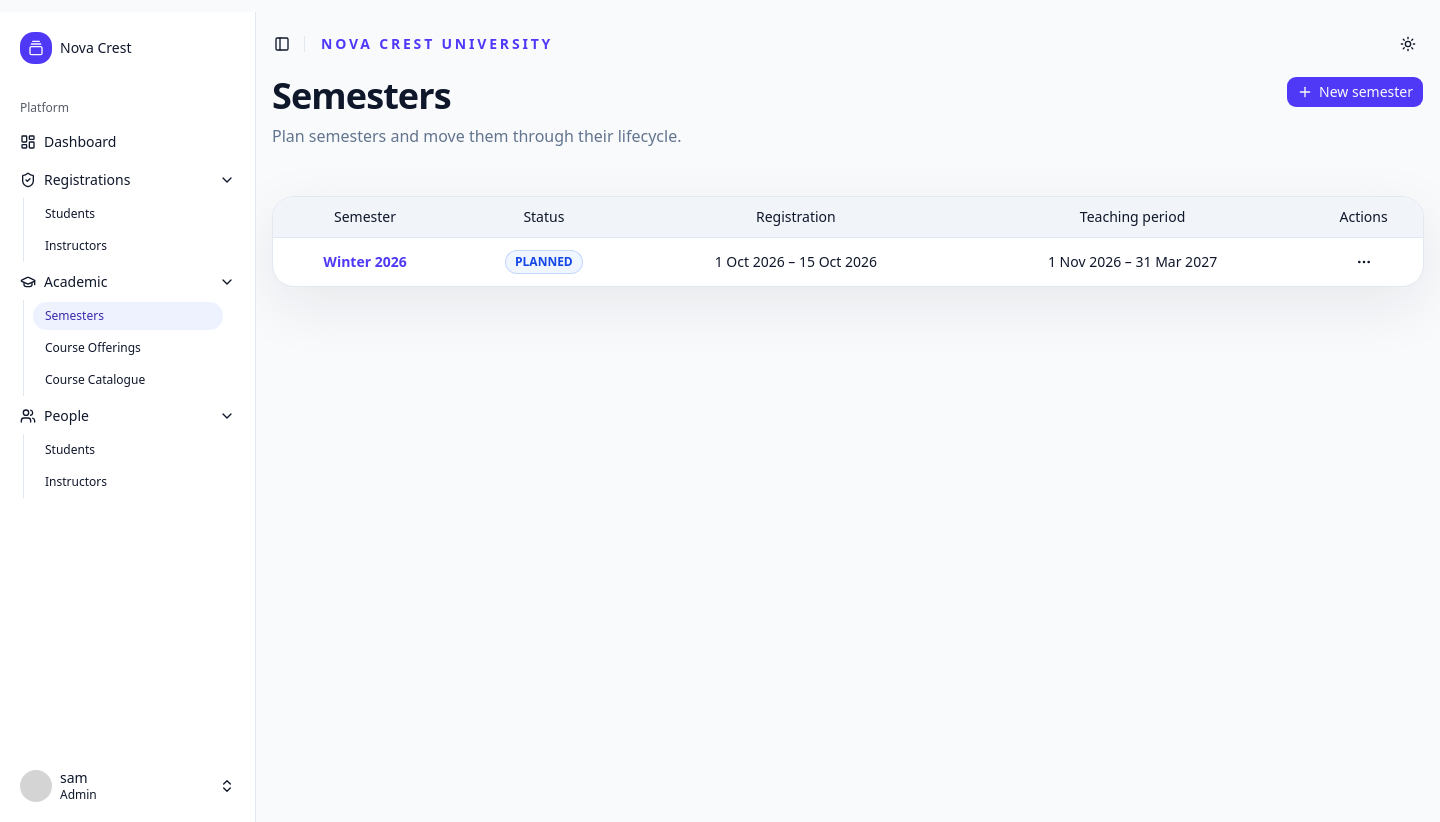
Test: SemestersView › activates a semester and refreshes the list
The width and height of the screenshot is (1440, 822).
Click the button without text in the row of "Winter 2026" at (1364, 262), box [1348,246,1380,278]
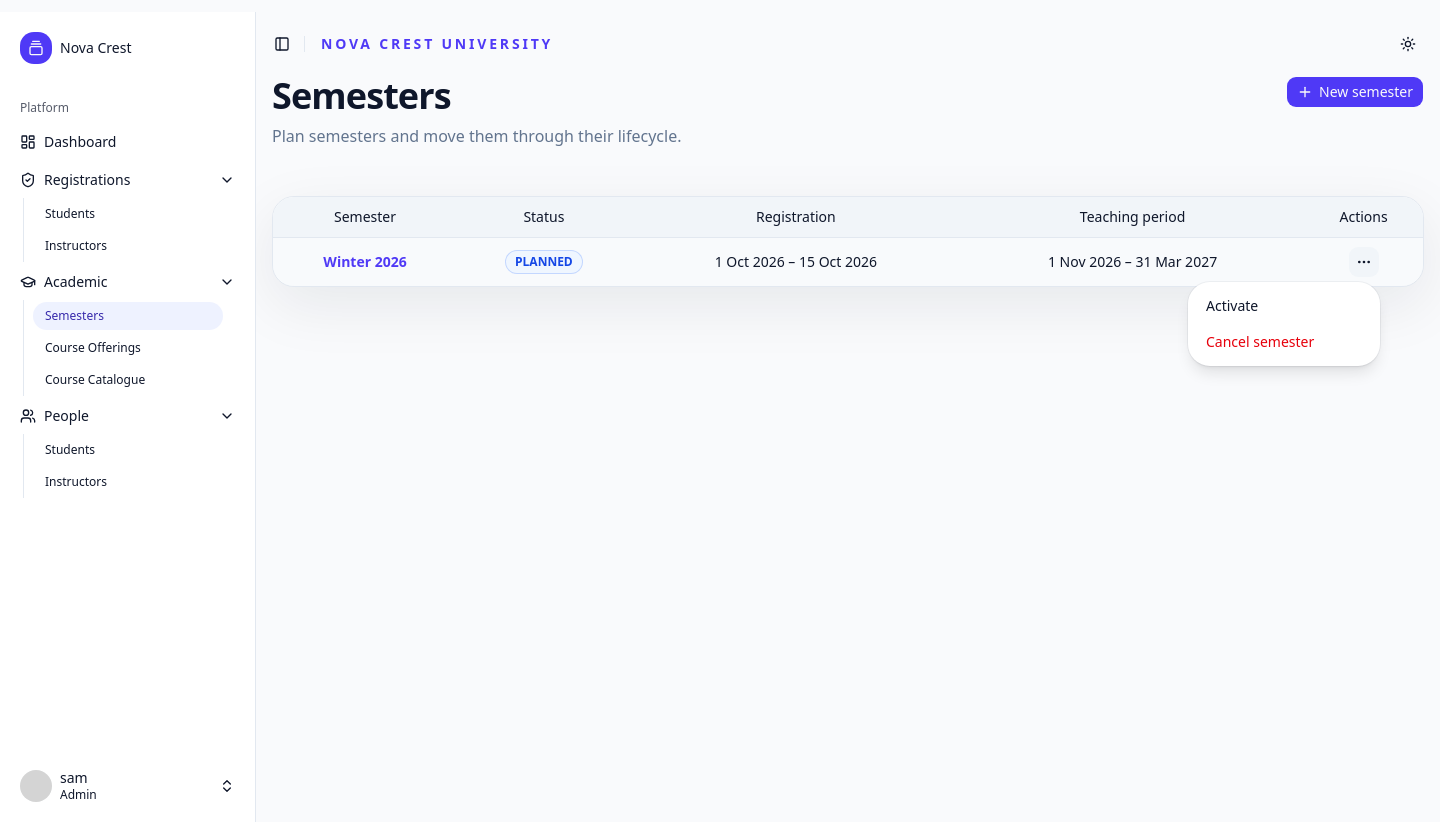
Click the menu item "Activate" at (1232, 306), box [1206,296,1258,315]
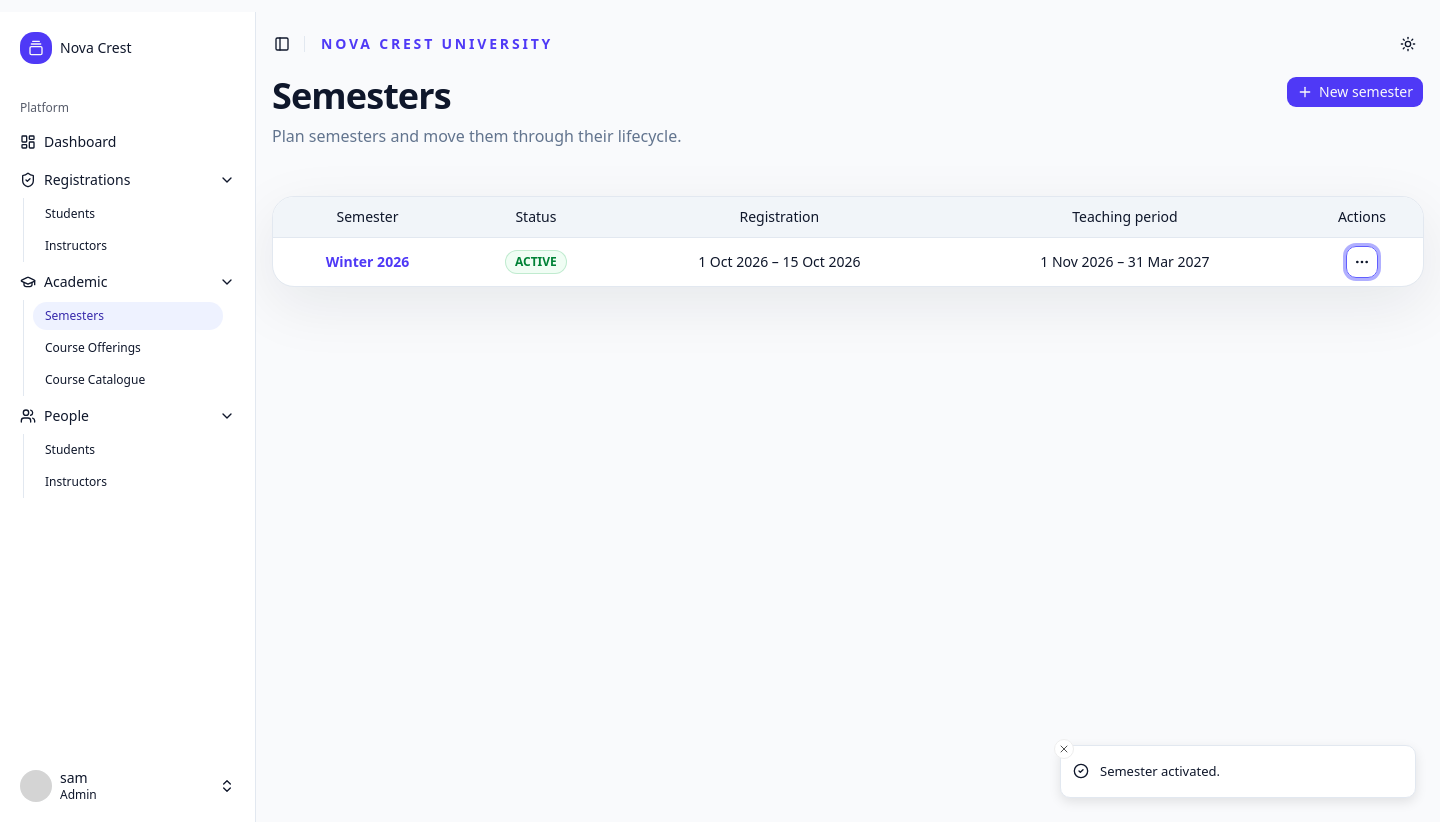
Result: the text "Semester activated." is shown at [1100,762,1220,781]
Result: the text "ACTIVE" is shown at [505,250,567,274]
